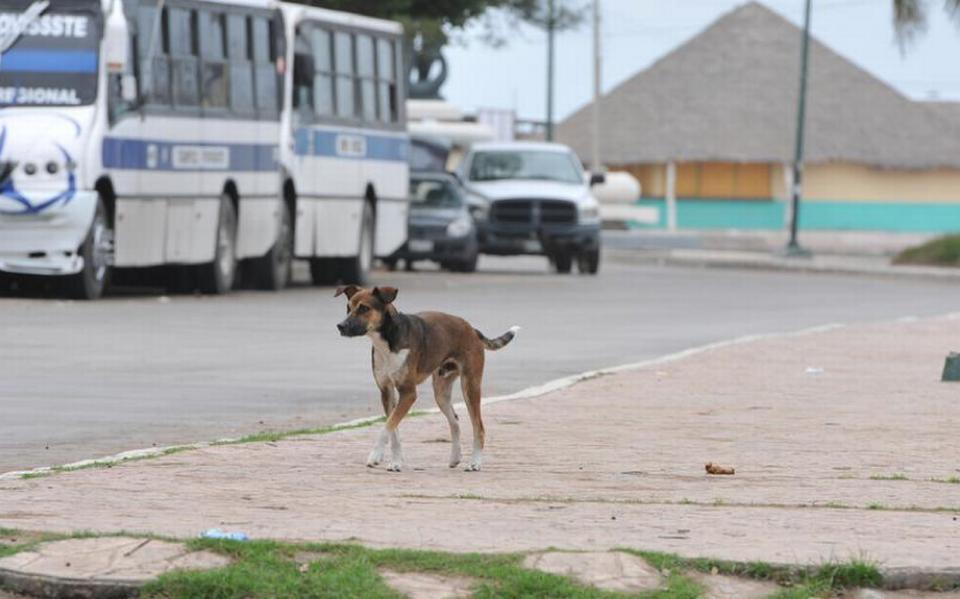normal_dogs: (328, 281, 522, 481)
